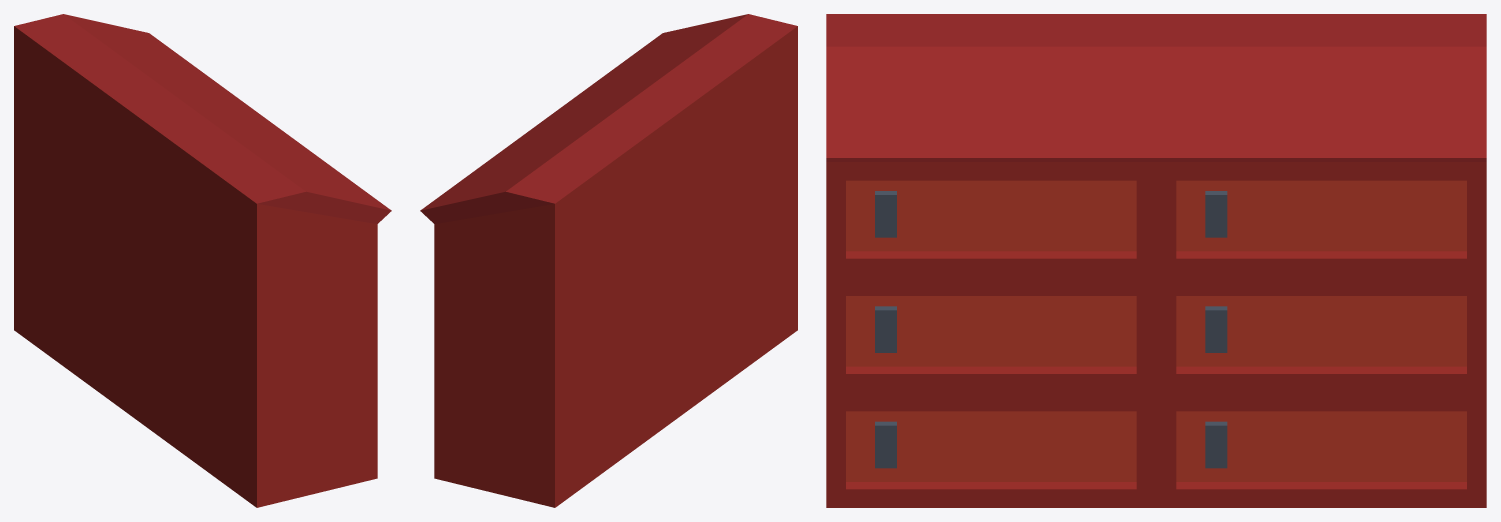
File: PostBox_2_C.fbx
3 renders of one model, left to right at view 1: azimuth 30°, elevation 25°; view 2: azimuth 150°, elevation 25°; view 3: azimuth 270°, elevation 25°, orthographic. The views are drawn at different scales.
Parts seen in each view (by area): view 1: PostBox_2_C; view 2: PostBox_2_C; view 3: PostBox_2_C.
Boxes of the visible parts, x1,y1,x2,y2 form: PostBox_2_C: (14,14,391,507); PostBox_2_C: (420,14,797,507); PostBox_2_C: (826,14,1486,507).
Size of the model in its own units: 19.48 by 41.93 by 60.65.
